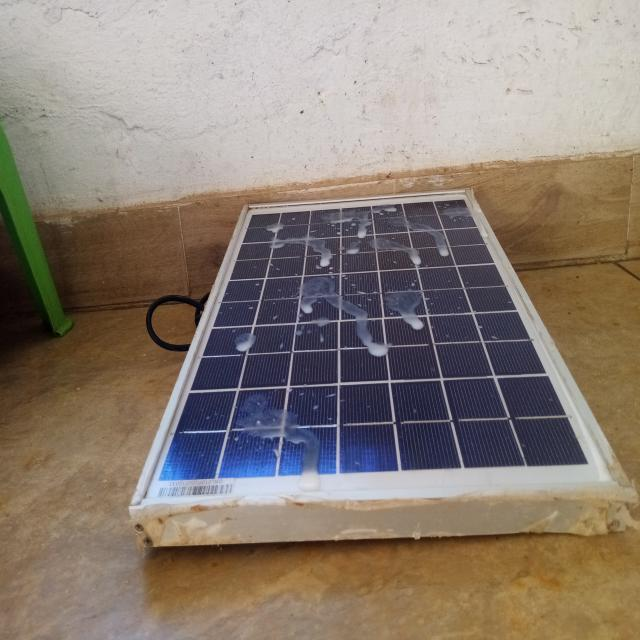faulty: (134, 190, 629, 503)
